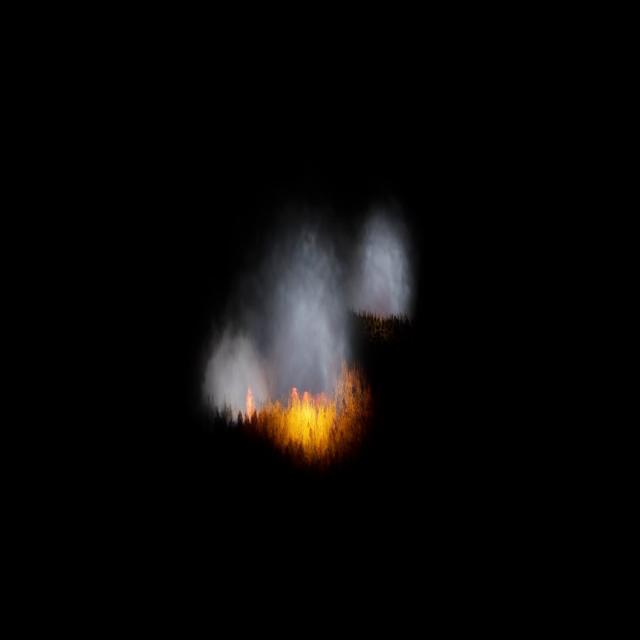fire: (242, 358, 369, 460)
smoke: (206, 203, 414, 428)
